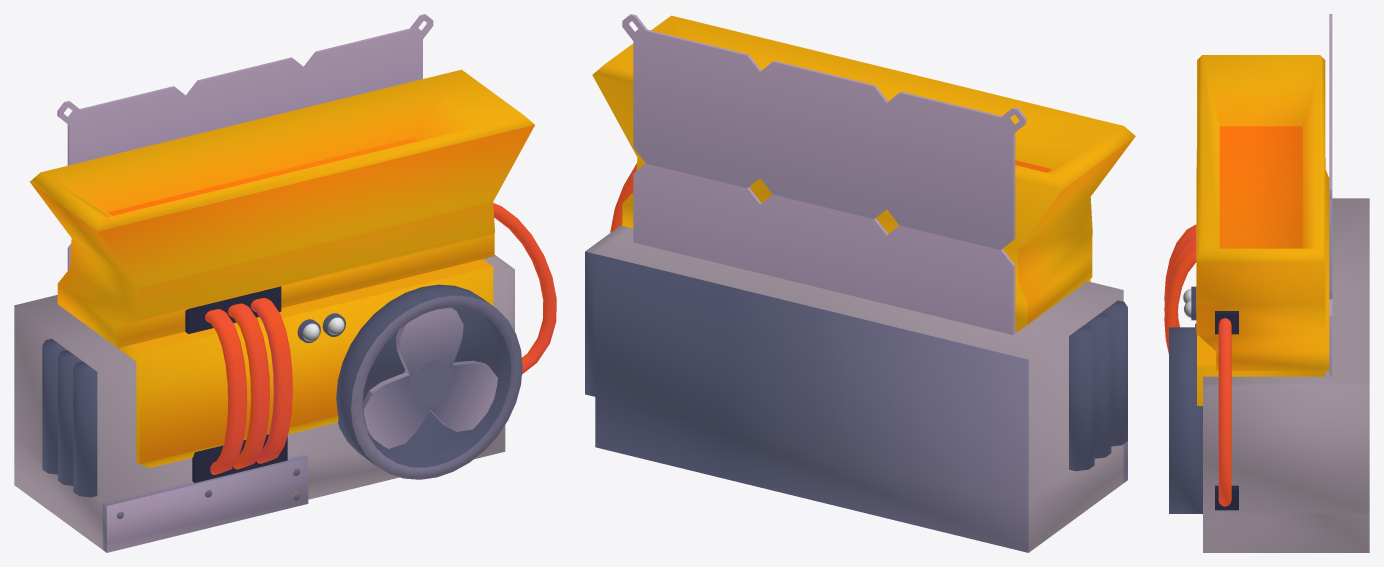
The model's file is generator.glb.
3 renders of one model, left to right at view 1: azimuth 30°, elevation 25°; view 2: azimuth 150°, elevation 25°; view 3: azimuth 270°, elevation 25°, orthographic. The views are drawn at different scales.
Parts seen in each view (by area): view 1: PlateGen, Fan; view 2: PlateGen; view 3: PlateGen.
Boxes of the visible parts, box(x1,y1,x2,y2) form: PlateGen: box(14, 14, 556, 552); Fan: box(362, 307, 497, 448); PlateGen: box(585, 14, 1135, 552); PlateGen: box(1164, 14, 1369, 552).
Bounding box in the file's own units: 0.8124 × 0.6327 × 0.3202.
1 material, 1 textured.
